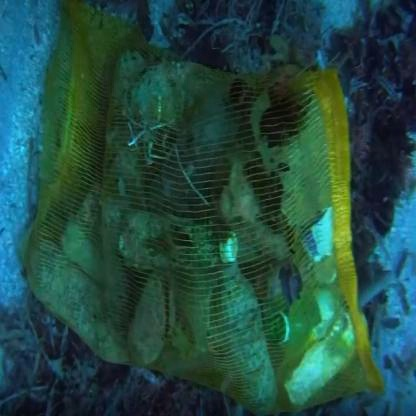pbottle: (204, 164, 324, 416)
